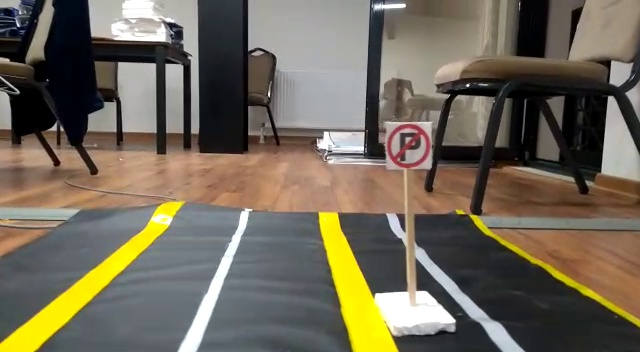park_yapilmaz: (386, 122, 431, 171)
